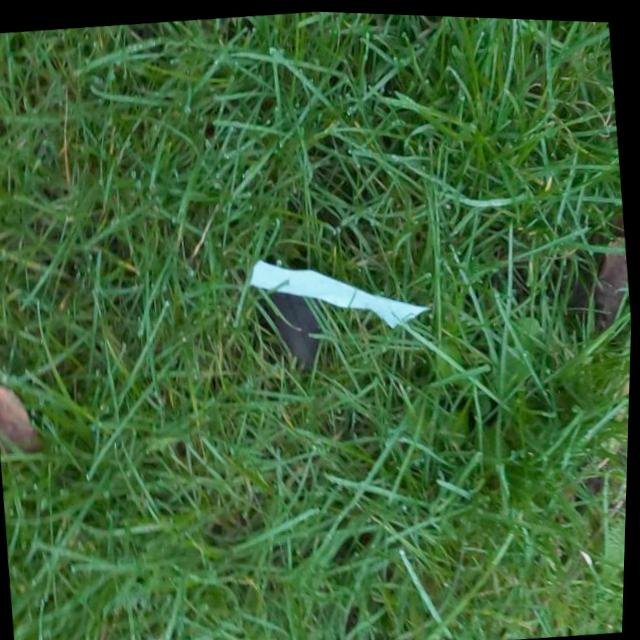Paper: (246, 235, 438, 342)
